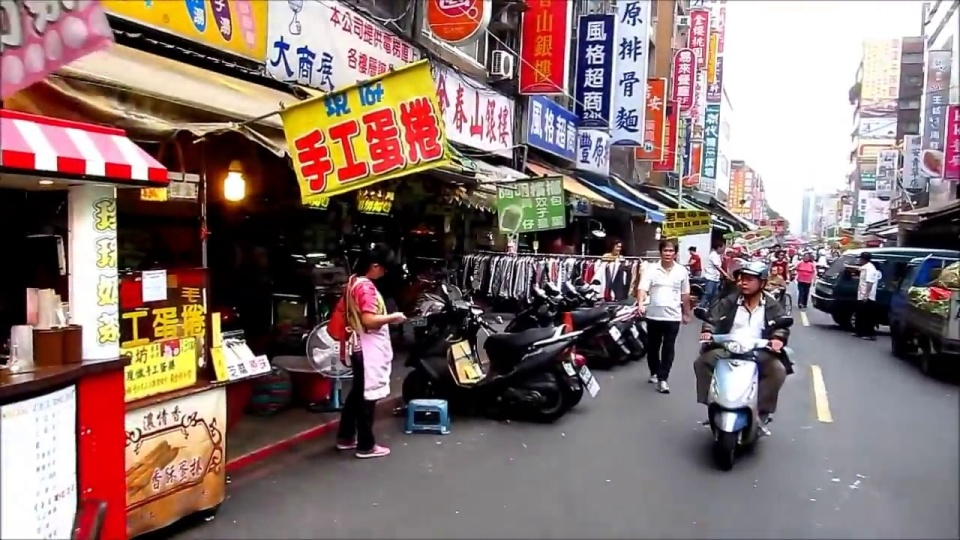person_head: (353, 246, 389, 282), (735, 261, 768, 294), (656, 235, 678, 269), (729, 257, 751, 289), (608, 238, 628, 258), (856, 252, 873, 267), (798, 254, 814, 263), (687, 247, 697, 257), (714, 240, 722, 252)
person_vbox: (689, 250, 794, 436), (330, 235, 409, 462), (641, 224, 690, 399), (847, 241, 886, 349), (789, 243, 820, 308), (678, 235, 705, 306), (705, 224, 723, 288)
